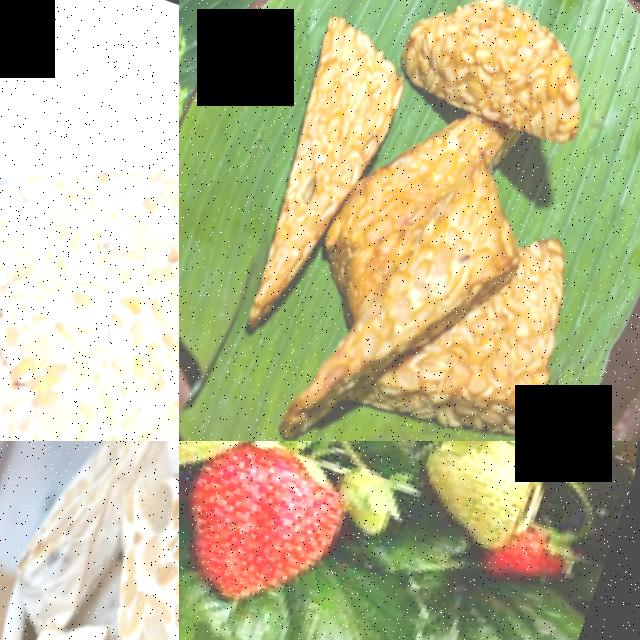strawberry: (179, 441, 361, 618), (412, 441, 562, 550)
tempeh: (362, 149, 603, 438), (0, 144, 173, 441), (239, 2, 398, 320), (389, 0, 614, 137), (98, 126, 179, 441), (77, 441, 179, 640)
